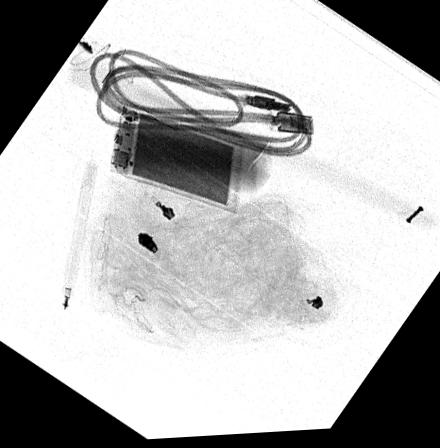Powerbank: (107, 105, 244, 216)
